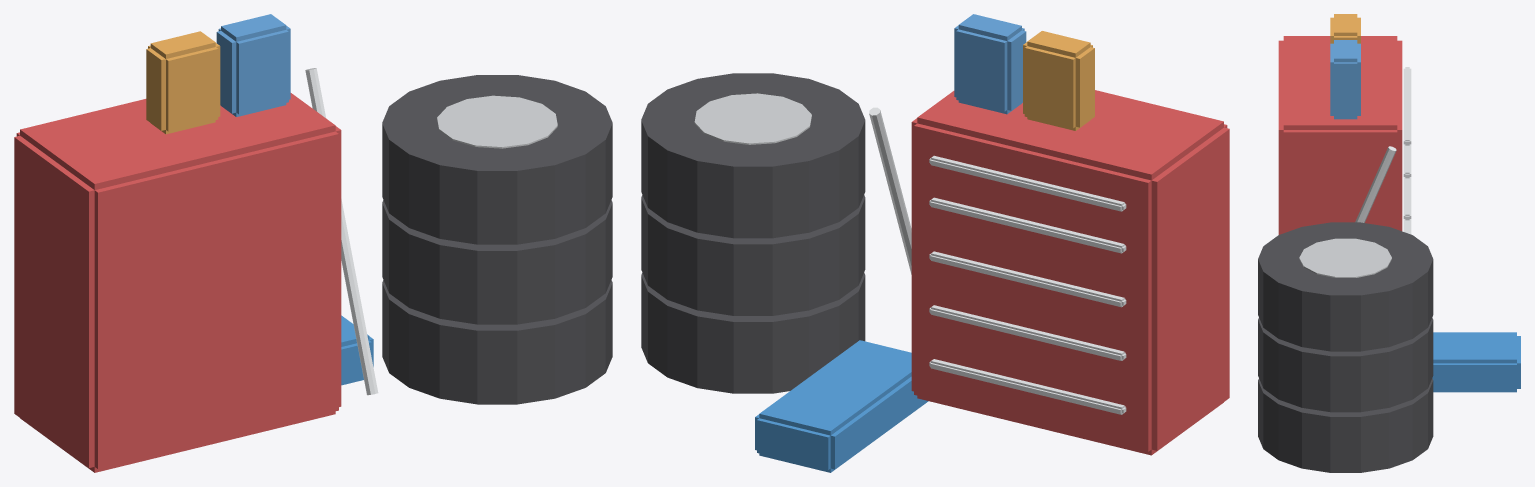
File: Interior_GarageTools.fbx
The picture shows the model from 3 angles, left to right: view 1: azimuth 30°, elevation 25°; view 2: azimuth 150°, elevation 25°; view 3: azimuth 270°, elevation 25°; orthographic projection. The views are drawn at different scales.
Parts seen in each view (by area): view 1: Interior_GarageTools; view 2: Interior_GarageTools; view 3: Interior_GarageTools.
Boxes of the visible parts, <box> form: Interior_GarageTools: <box>14,14,612,472</box>; Interior_GarageTools: <box>641,14,1229,472</box>; Interior_GarageTools: <box>1258,14,1520,472</box>.
Size of the model in its own units: 1.86 by 1.27 by 1.02.
